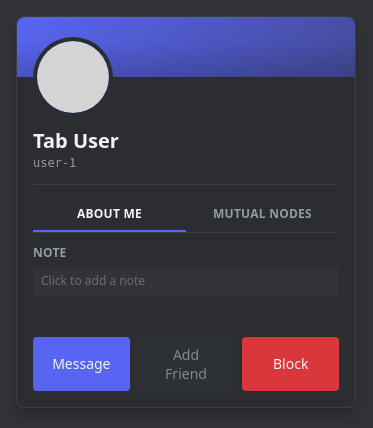
ProfileCard › switches to Mutual Nodes tab
Click the button "Mutual Nodes". click: (262, 214)
box: [186,196,339,232]
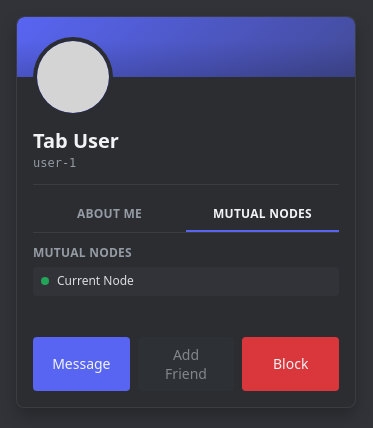
Expected: the text "Current Node" is shown, [57,273,134,290]
